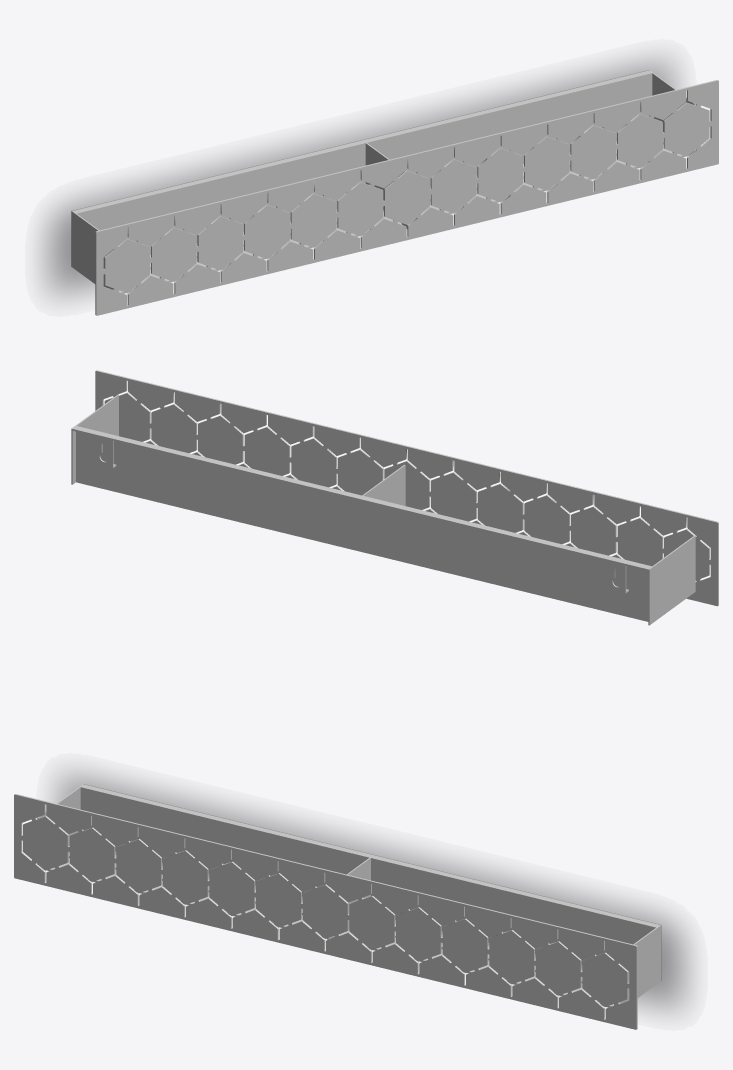
Rendered from bee-mono.d23ec909f9.ar.glb.
3 views of the same model, one above another, from view 1: azimuth 30°, elevation 25°; view 2: azimuth 150°, elevation 25°; view 3: azimuth 330°, elevation 25° (orthographic).
Parts seen in each view (by area): view 1: NAUO1, object 2; view 2: NAUO1; view 3: NAUO1, object 2.
Boxes of the visible parts, box(x1,y1,x2,y2) form: NAUO1: box(71, 70, 718, 315); object 2: box(42, 59, 678, 296); NAUO1: box(71, 370, 718, 625); NAUO1: box(14, 784, 661, 1029); object 2: box(54, 773, 690, 1010).
Bounding box in the file's own units: 0.78 × 0.17 × 0.092.
2 materials, 1 textured.
